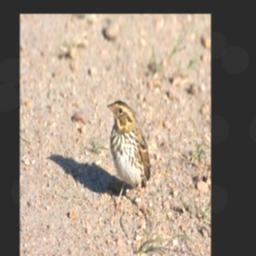Sparrow: (104, 96, 152, 222)
